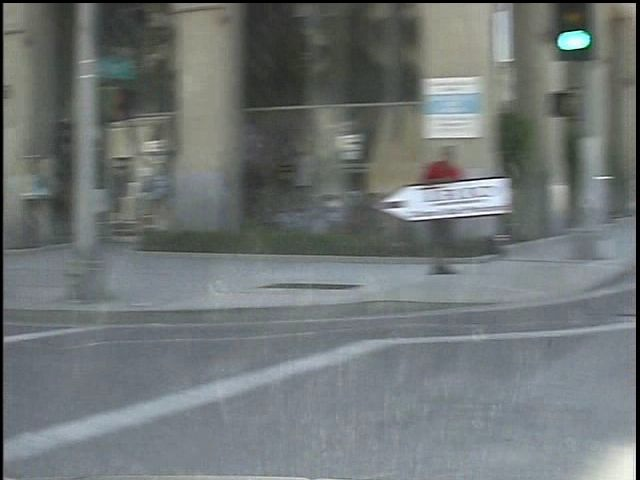person: (406, 138, 450, 282)
